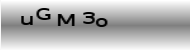3: (81, 11, 96, 25)
G: (35, 7, 51, 21)
M: (56, 12, 76, 27)
o: (95, 17, 107, 28)
u: (19, 15, 34, 26)
